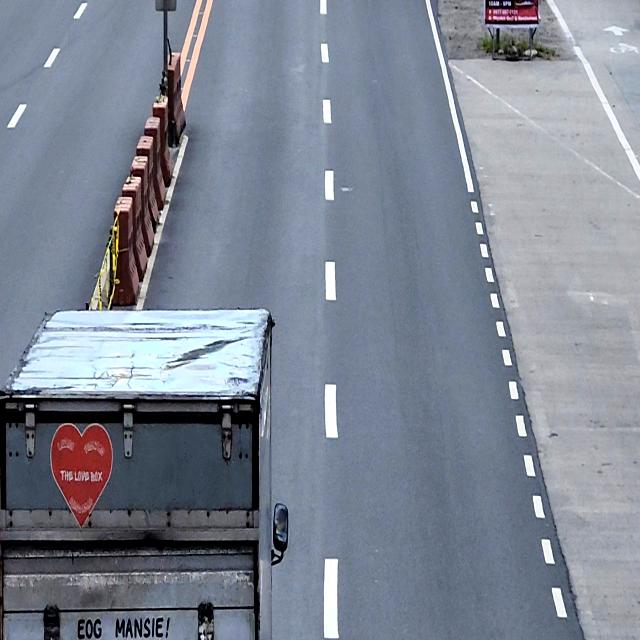Truck: (0, 306, 286, 639)
